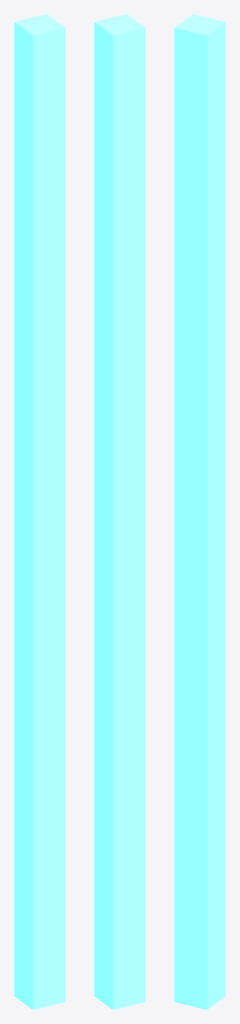
Rendered from trim_corner_strip.glb.
3 views of the same model, side by side, from view 1: azimuth 30°, elevation 25°; view 2: azimuth 210°, elevation 25°; view 3: azimuth 330°, elevation 25° (orthographic).
Visible parts, largest first — view 1: trim_corner_strip; view 2: trim_corner_strip; view 3: trim_corner_strip.
Part boxes in pixels (box(x1,y1,x2,y2)): trim_corner_strip: box(14, 14, 65, 1009); trim_corner_strip: box(94, 14, 145, 1009); trim_corner_strip: box(174, 14, 225, 1009).
Bounding box in the file's own units: 0.13 × 3.7 × 0.13.
